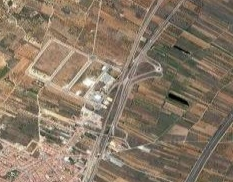industrial: (28, 44, 116, 100)
motorway: (84, 63, 137, 180), (176, 115, 233, 182), (124, 1, 181, 66)
